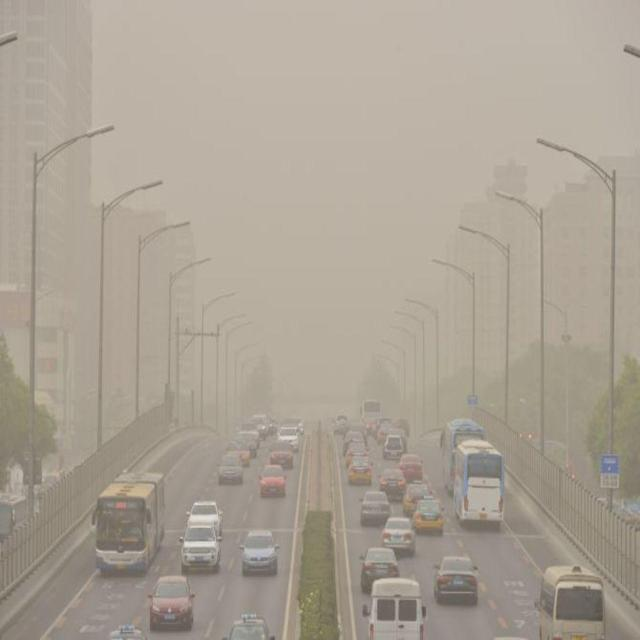Car: (239, 518, 282, 582), (434, 557, 479, 604), (180, 526, 221, 574), (359, 545, 396, 592), (379, 518, 418, 554), (358, 486, 390, 525), (185, 498, 226, 528), (414, 494, 444, 535), (260, 460, 286, 506), (218, 450, 249, 486), (403, 481, 429, 513), (380, 468, 404, 499), (349, 457, 373, 486), (271, 442, 296, 468), (400, 452, 422, 480), (226, 440, 248, 466), (275, 427, 298, 450), (246, 414, 268, 438), (384, 436, 404, 461), (346, 440, 368, 460), (334, 412, 351, 436), (236, 425, 259, 442)
Truck: (86, 460, 170, 586), (531, 555, 609, 640), (452, 440, 509, 536), (437, 418, 488, 508), (147, 572, 199, 632), (361, 397, 383, 434)
